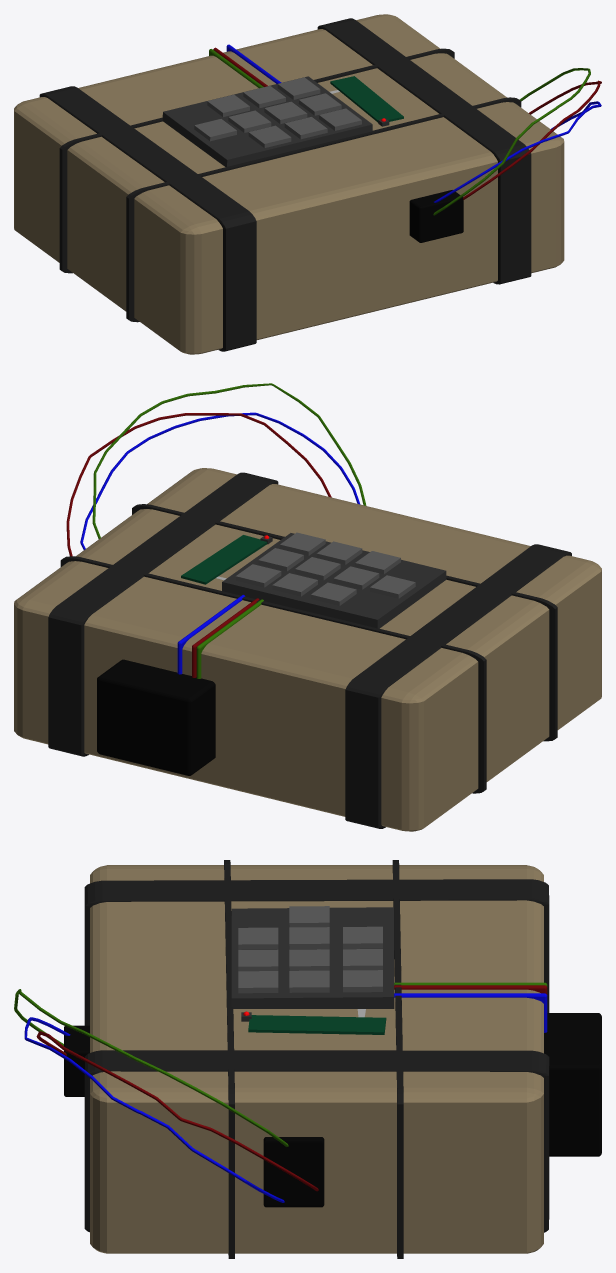
3 renders of one model, top to bottom at view 1: azimuth 30°, elevation 25°; view 2: azimuth 150°, elevation 25°; view 3: azimuth 270°, elevation 25°, orthographic. The views are drawn at different scales.
Visible parts, largest first — view 1: Cube.010; view 2: Cube.010; view 3: Cube.010.
Boxes of the visible parts, bbox=[...] form: Cube.010: bbox=[14, 14, 601, 354]; Cube.010: bbox=[14, 383, 601, 831]; Cube.010: bbox=[14, 860, 601, 1258].
Bounding box in the file's own units: 407 × 164 × 360.
